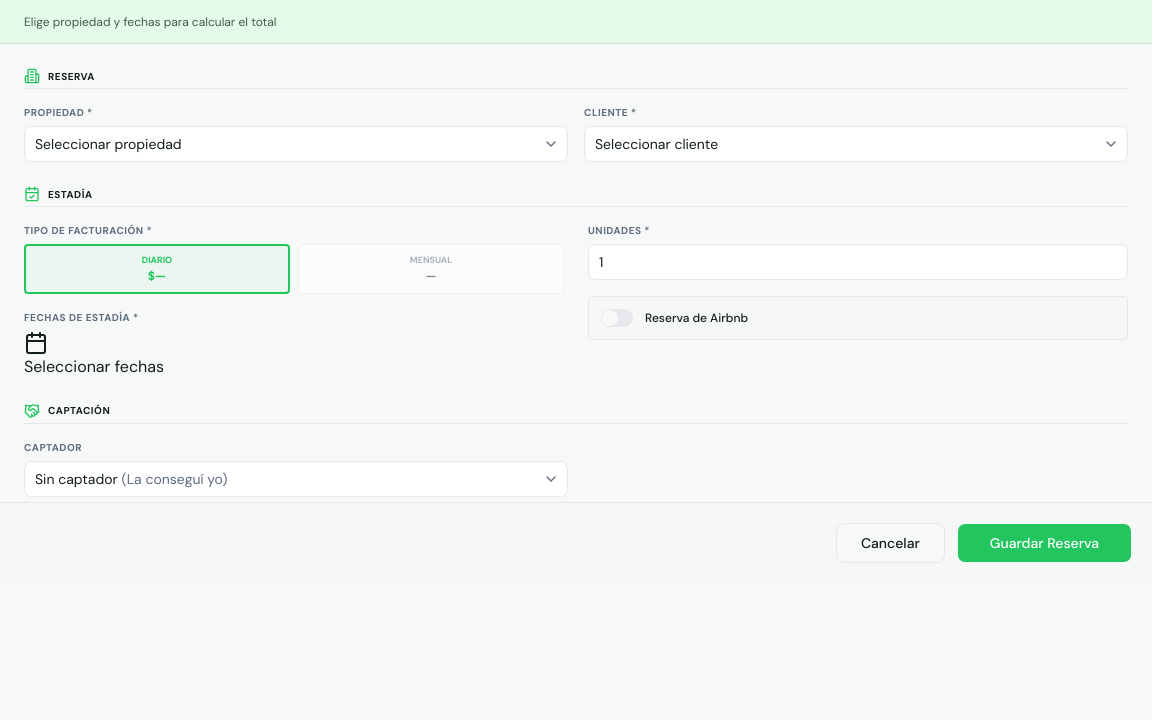
it: ReservationForm - Creación rápida de cliente › click en footer action abre el modal con ClientForm
Click the button "Seleccionar cliente".
click(657, 144)  # box 584,126 -> 1128,162
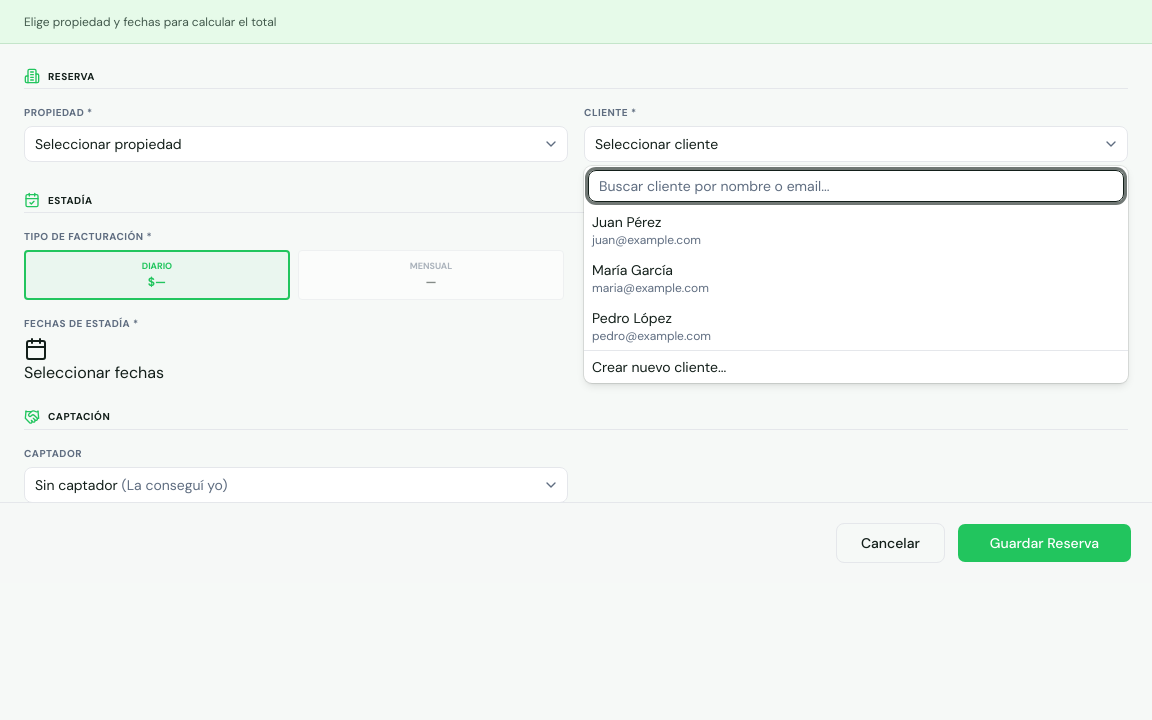
Click the button "Crear nuevo cliente...".
click(659, 367)  # box 584,351 -> 1128,383
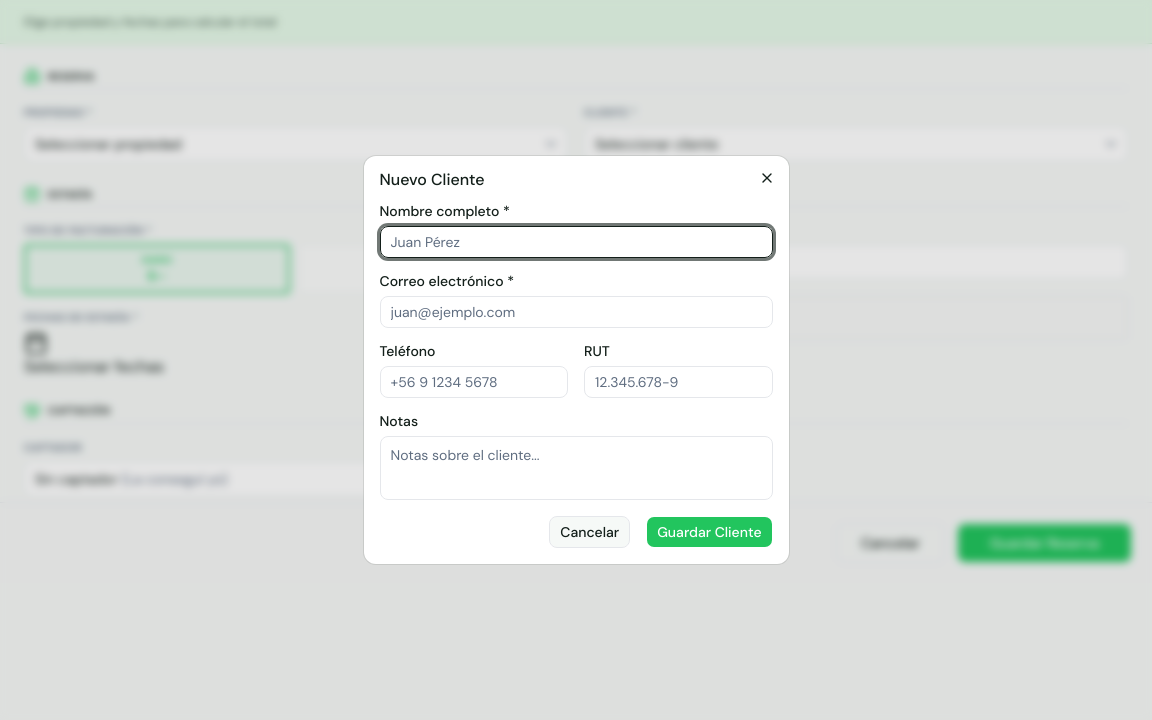
Expected: the heading "Nuevo Cliente" is shown, 380,169 -> 485,190
Expected: the button "Guardar Cliente" is shown, 646,516 -> 772,548
